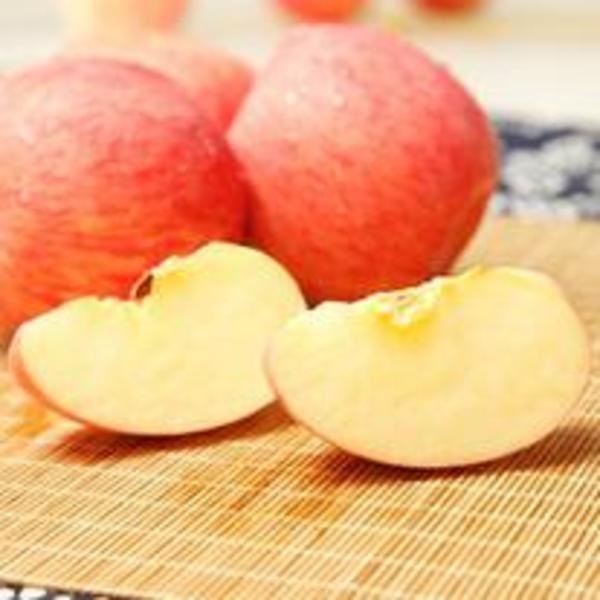apple: (228, 25, 498, 297), (1, 55, 245, 327)
